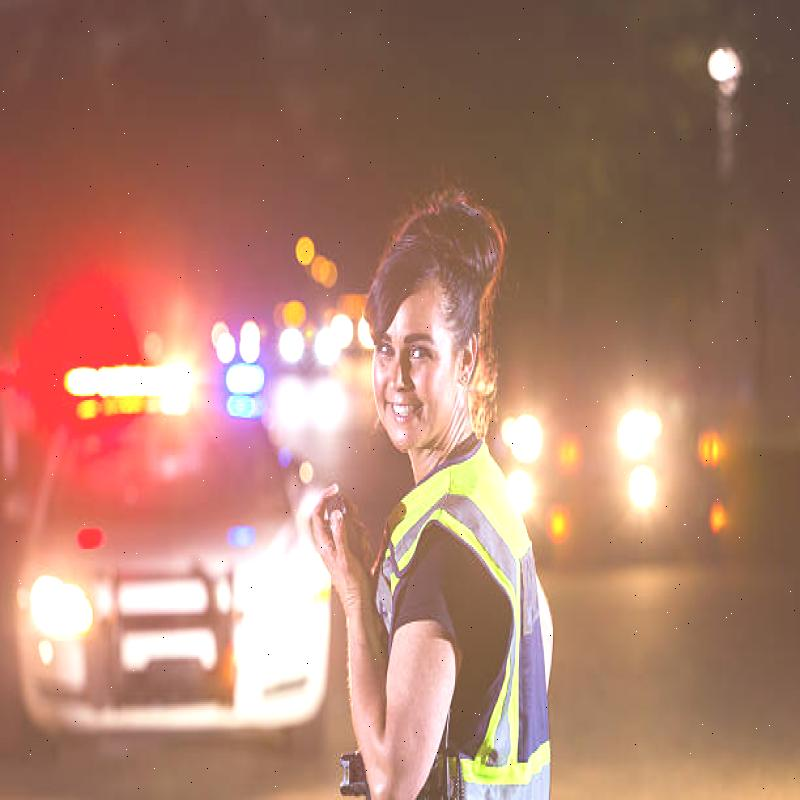AmbulanceSiren: (60, 343, 276, 417)
